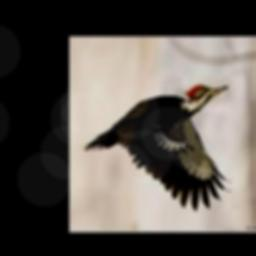Woodpecker: (84, 85, 232, 211)
